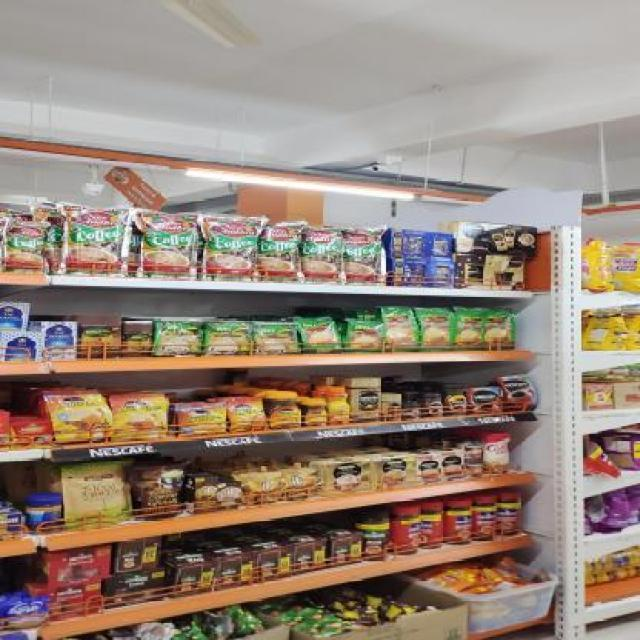Coffee: (50, 390, 112, 441), (113, 395, 166, 439), (229, 398, 266, 431), (351, 379, 378, 422), (269, 393, 301, 429), (504, 378, 537, 410), (467, 389, 499, 413), (331, 388, 350, 424), (304, 401, 326, 425), (383, 395, 401, 419), (425, 395, 444, 417), (402, 405, 418, 417)
